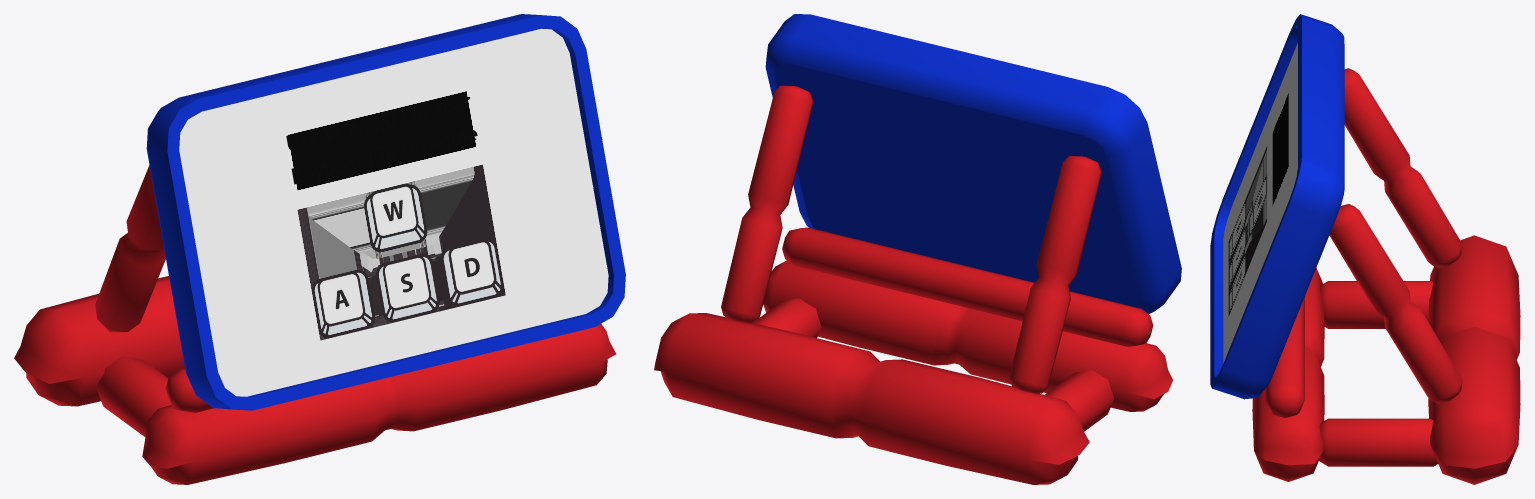
Rendered from Env_Billboard.fbx.
3 views of the same model, side by side, from view 1: azimuth 30°, elevation 25°; view 2: azimuth 150°, elevation 25°; view 3: azimuth 270°, elevation 25° (orthographic). The views are drawn at different scales.
Parts seen in each view (by area): view 1: SM_Env_Billboard_Low; view 2: SM_Env_Billboard_Low; view 3: SM_Env_Billboard_Low.
Boxes of the visible parts, left/top/right/bottom form: SM_Env_Billboard_Low: left=14, top=14, right=625, bottom=484; SM_Env_Billboard_Low: left=654, top=14, right=1181, bottom=484; SM_Env_Billboard_Low: left=1210, top=14, right=1520, bottom=484.
Size of the model in its own units: 2365 by 1762 by 1575.
Materials: 3 (1 with a texture image).
